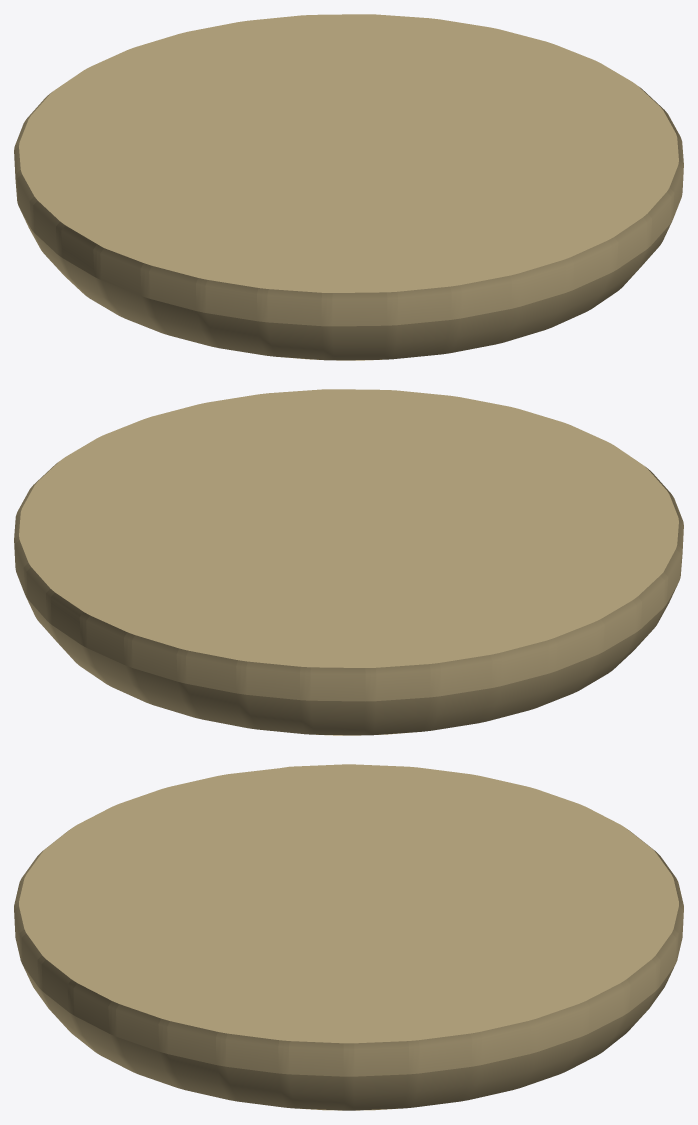
The model's file is hamburgerBunBottom.fbx.
3 views of the same model, one above another, from view 1: azimuth 30°, elevation 25°; view 2: azimuth 150°, elevation 25°; view 3: azimuth 270°, elevation 25° (orthographic).
Parts seen in each view (by area): view 1: hamburgerBunBottom; view 2: hamburgerBunBottom; view 3: hamburgerBunBottom.
Boxes of the visible parts, x1,y1,x2,y2 form: hamburgerBunBottom: (14,14,683,360); hamburgerBunBottom: (14,389,683,735); hamburgerBunBottom: (14,764,683,1110).
Size of the model in its own units: 20.06 by 3.9 by 20.06.
